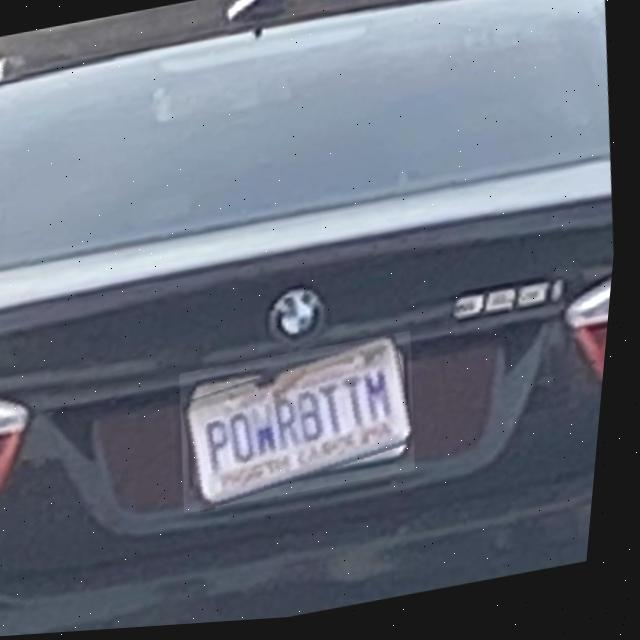LicensePlate: (188, 340, 423, 514)
